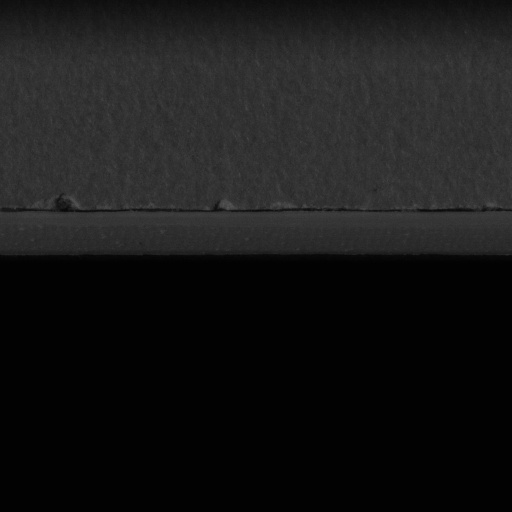bengque: (41, 192, 85, 217), (209, 195, 236, 214)
